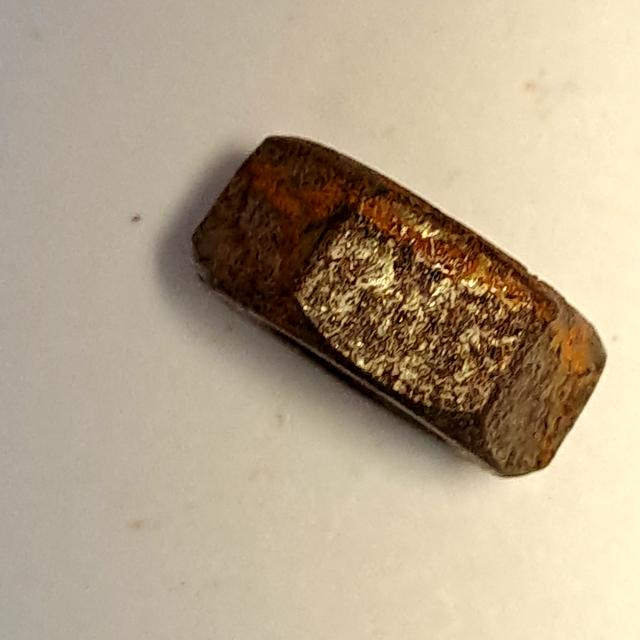Side_Rust: (179, 120, 623, 496)
